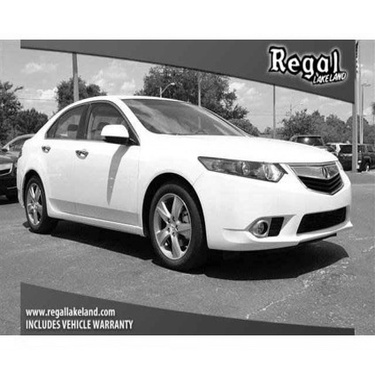car: (14, 88, 356, 274), (287, 128, 333, 173), (3, 130, 50, 170), (1, 141, 26, 206), (335, 139, 373, 173), (318, 133, 353, 164)
